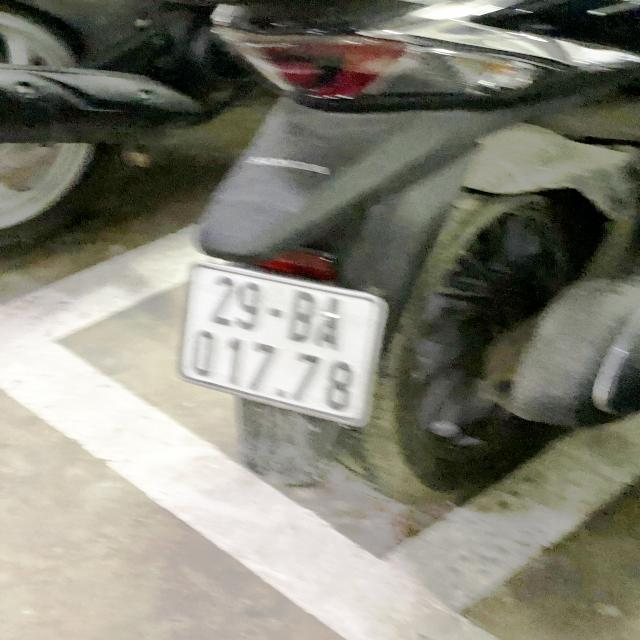license_plate: (161, 256, 399, 438)
